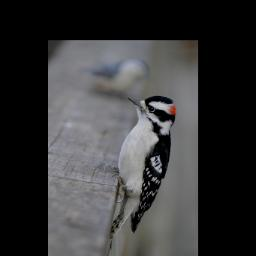Woodpecker: (108, 88, 183, 250)
